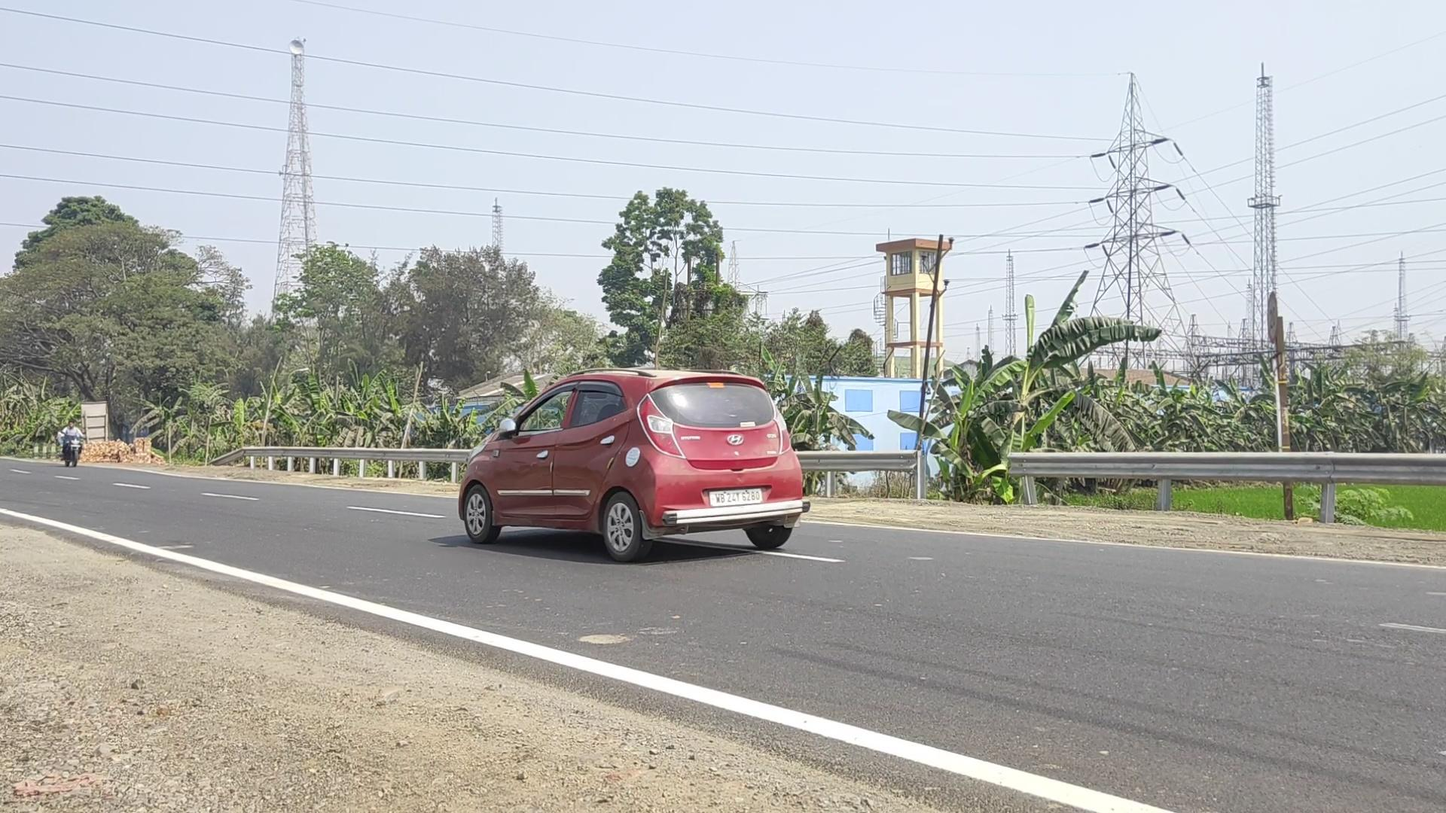bike: (59, 420, 87, 469)
car: (456, 367, 810, 565)
